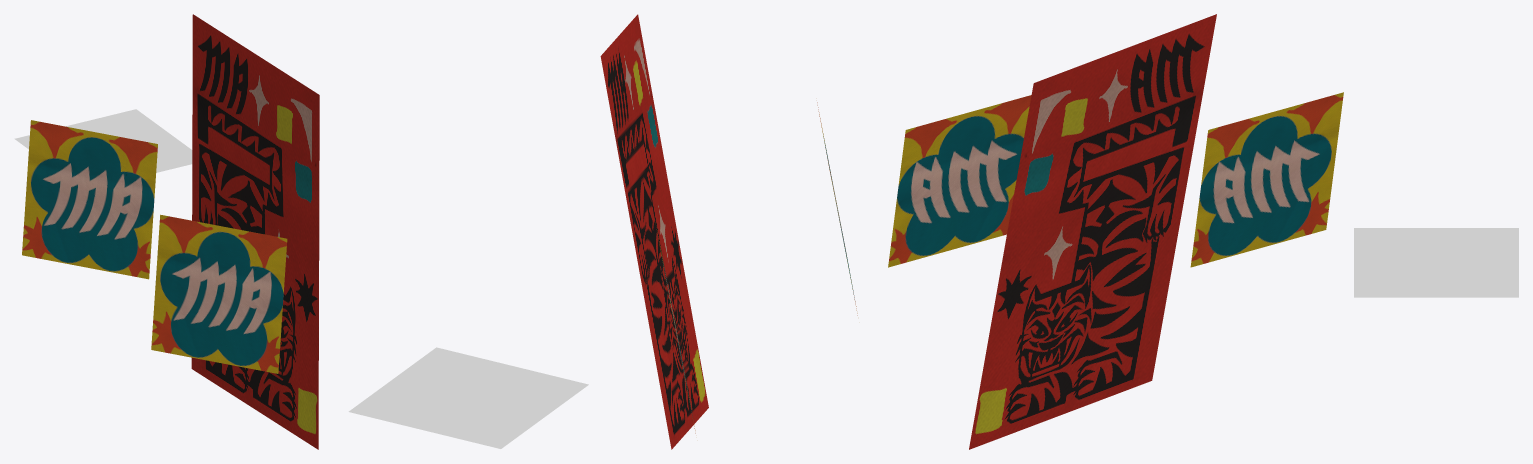
The model's file is two objects test.glb.
3 renders of one model, left to right at view 1: azimuth 30°, elevation 25°; view 2: azimuth 150°, elevation 25°; view 3: azimuth 270°, elevation 25°, orthographic. The views are drawn at different scales.
Visible parts, largest first — view 1: Plane.004, Plane.002, Plane.003, Plane.001; view 2: Plane.004, Plane.001; view 3: Plane.004, Plane.002, Plane.003, Plane.001.
Part boxes in pixels (x1,y1,x2,y2): Plane.004: (191, 14, 319, 449); Plane.002: (22, 120, 157, 279); Plane.003: (151, 214, 287, 373); Plane.001: (14, 109, 192, 172); Plane.004: (600, 14, 708, 449); Plane.001: (348, 347, 588, 448); Plane.004: (969, 14, 1216, 449); Plane.002: (1190, 92, 1343, 267); Plane.003: (888, 95, 1031, 267); Plane.001: (1354, 228, 1518, 297).
Size of the model in its own units: 3.22 by 5.69 by 7.66.
3 materials, 3 textured.
